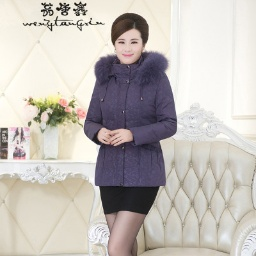face: (105, 12, 150, 66)
